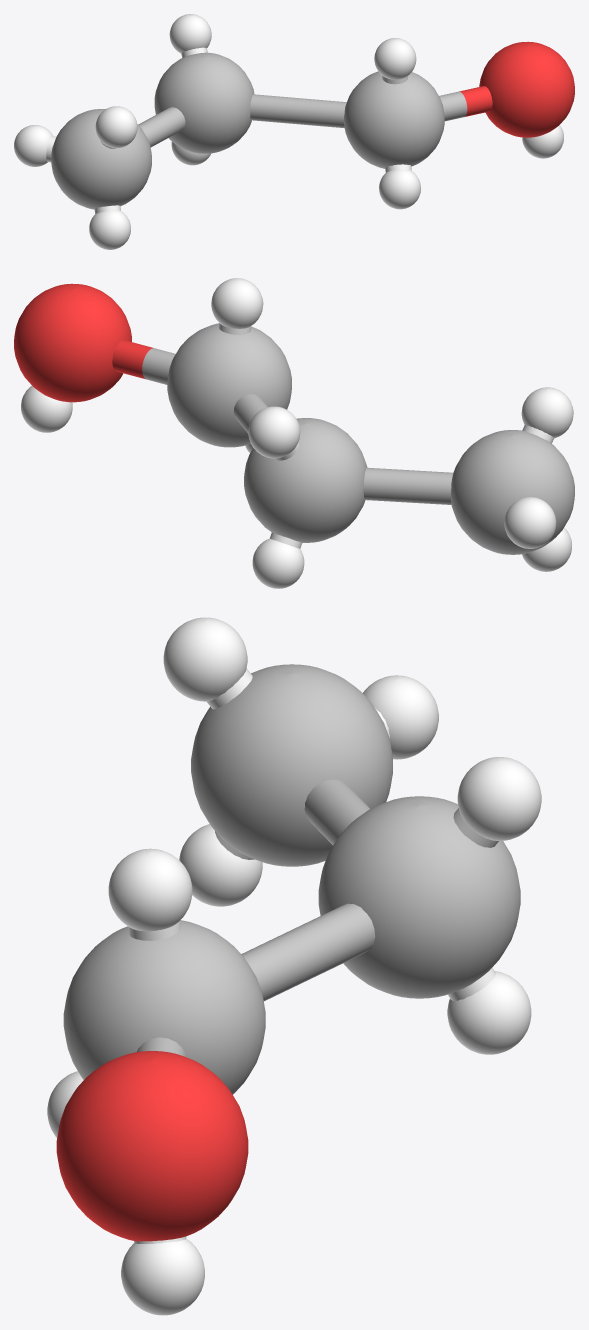
Rendered from alcohol.glb.
The picture shows the model from 3 angles, top to bottom: view 1: azimuth 30°, elevation 25°; view 2: azimuth 150°, elevation 25°; view 3: azimuth 270°, elevation 25°; orthographic projection. The views are drawn at different scales.
Parts seen in each view (by area): view 1: Carbon_ball (×4), Hydrogen_ball (×9), Oxygen_ball; view 2: Carbon_ball (×4), Hydrogen_ball (×9), Oxygen_ball (×2); view 3: Carbon_ball (×5), Hydrogen_ball (×9), Oxygen_ball (×2).
Boxes of the visible parts, x1,y1,x2,y2 form: Carbon_ball (×4): [51, 52, 444, 209]; Hydrogen_ball (×9): [14, 14, 563, 249]; Oxygen_ball: [479, 41, 574, 137]; Carbon_ball (×4): [167, 323, 574, 554]; Hydrogen_ball (×9): [21, 278, 573, 588]; Oxygen_ball (×2): [14, 283, 131, 402]; Carbon_ball (×5): [63, 664, 520, 1094]; Hydrogen_ball (×9): [47, 617, 541, 1315]; Oxygen_ball (×2): [56, 1051, 248, 1241].
Bounding box in the file's own units: 8.62 × 2.63 × 3.76.
